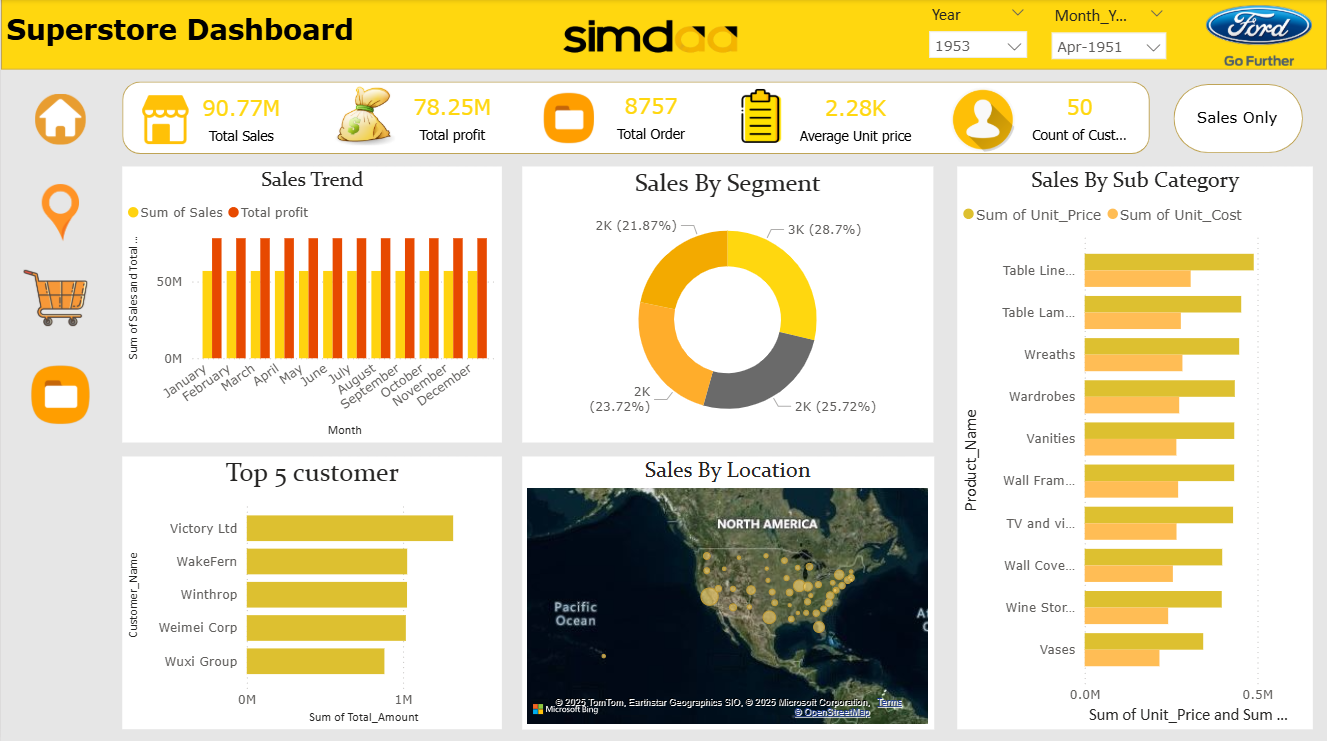

What the dashboard file says about the page in this screenshot:
{"tool":"powerbi","page":{"name":"Overview","canvas":[1280,720],"ordinal":0},"visuals":[{"type":"shape","box":[1131.7,81.7,125,66.7],"z":0,"group":"g1"},{"type":"clusteredColumnChart","title":"Sales Trend","fields":{"Y":["Fact_Sales.Sum of Sales","Fact_Sales.Total profit"],"Category":["date.Date.Variation.Date Hierarchy.Month"]},"box":[116.7,161.7,366.7,266.7],"z":0},{"type":"donutChart","title":"Sales By Segment","fields":{"Category":["DIM_Sales_Region.Sales_Region_Name"],"Y":["DIM_City.total order"]},"box":[503.3,161.7,396.7,266.7],"z":1000},{"type":"textbox","box":[1136.7,100,113.3,33.3],"z":2000,"group":"g1"},{"type":"clusteredBarChart","title":"Top 5 customer","fields":{"Category":["DIM_Customer.Customer_Name"],"Y":["Sum(Fact_Sales.Total_Amount)"]},"box":[116.7,441.7,366.7,263.3],"z":2000},{"type":"map","title":"Sales By Location","fields":{"Size":["Fact_Sales.Sum of Sales"],"Category":["DIM_State.State_Name"]},"box":[503.3,441.7,396.7,263.3],"z":3000},{"type":"clusteredBarChart","title":"Sales By Sub Category","fields":{"Category":["DIM_Product.Product_Name"],"Y":["Sum(Fact_Sales.Unit_Price)","Sum(Fact_Sales.Unit_Cost)"]},"box":[923.3,161.7,343.3,543.3],"z":4000},{"type":"shape","title":"SU","box":[0,0,1280,68.3],"z":5000},{"type":"shape","box":[116.7,80,991.7,70],"z":6000},{"type":"image","box":[130,83.3,56.7,66.7],"z":7000},{"type":"card","fields":{"Values":["DIM_City.total Sales"]},"box":[186.7,81.7,90,66.7],"z":8000},{"type":"card","fields":{"Values":["Fact_Sales.Total profit"]},"box":[386.7,85,96.7,60],"z":9000},{"type":"card","fields":{"Values":["DIM_City.total order"]},"box":[576.7,83.3,101.7,60],"z":10000},{"type":"image","box":[701.7,81.7,63.3,61.7],"z":11000},{"type":"card","fields":{"Values":["Fact_Sales.Average Unit price"]},"box":[765,85,120,61.7],"z":12000},{"type":"image","box":[908.3,75,78.3,83.3],"z":13000},{"type":"card","fields":{"Values":["CountNonNull(DIM_Customer.Customer_ID)"]},"box":[986.7,85,108.3,60],"z":14000},{"type":"slicer","fields":{"Values":["Fact_Sales.OrderDate"]},"box":[885.9,0,115.1,62.8],"z":15000},{"type":"slicer","fields":{"Values":["date.Month_Year"]},"box":[1003.6,1.5,130.9,62.5],"z":16000},{"type":"group","id":"g1","title":"Group 1","box":[1131.7,81.7,125,66.7],"z":17000},{"type":"image","box":[26.7,86.7,61.7,58.3],"z":18000},{"type":"image","box":[21.7,173.3,71.7,65],"z":19000},{"type":"image","box":[16.7,253.3,71.7,70],"z":20000},{"type":"image","box":[21.7,348.3,71.7,66.7],"z":21000},{"type":"image","box":[518.3,78.3,58.3,73.3],"z":22000},{"type":"image","box":[315,80,71.7,66.7],"z":23000},{"type":"image","box":[1149.1,1.5,130.9,68.4],"z":24000},{"type":"image","box":[516.2,0,223.2,68],"z":25000},{"type":"textbox","box":[0,7,355.7,73.2],"z":26000}]}

Visuals, with their boxes in screenshot pixels (x1, y1, x2, y2), scaled from the page's 1280x720 canvas onto the 1327x741 screenshot:
shape: select_region(1173, 84, 1303, 153)
"Sales Trend" clusteredColumnChart: select_region(121, 166, 501, 441)
"Sales By Segment" donutChart: select_region(522, 166, 933, 441)
textbox: select_region(1178, 103, 1296, 137)
"Top 5 customer" clusteredBarChart: select_region(121, 455, 501, 726)
"Sales By Location" map: select_region(522, 455, 933, 726)
"Sales By Sub Category" clusteredBarChart: select_region(957, 166, 1313, 726)
"SU" shape: select_region(0, 0, 1326, 70)
shape: select_region(121, 82, 1149, 154)
image: select_region(135, 86, 194, 154)
card - DIM_City.total Sales: select_region(194, 84, 287, 153)
card - Fact_Sales.Total profit: select_region(401, 87, 501, 149)
card - DIM_City.total order: select_region(598, 86, 703, 147)
image: select_region(727, 84, 793, 148)
card - Fact_Sales.Average Unit price: select_region(793, 87, 917, 151)
image: select_region(942, 77, 1023, 163)
card - CountNonNull(DIM_Customer.Customer_ID): select_region(1023, 87, 1135, 149)
slicer - Fact_Sales.OrderDate: select_region(918, 0, 1038, 65)
slicer - date.Month_Year: select_region(1040, 2, 1176, 66)
"Group 1" group: select_region(1173, 84, 1303, 153)
image: select_region(28, 89, 92, 149)
image: select_region(22, 178, 97, 245)
image: select_region(17, 261, 92, 333)
image: select_region(22, 358, 97, 427)
image: select_region(537, 81, 598, 156)
image: select_region(327, 82, 401, 151)
image: select_region(1191, 2, 1326, 72)
image: select_region(535, 0, 767, 70)
textbox: select_region(0, 7, 369, 83)
